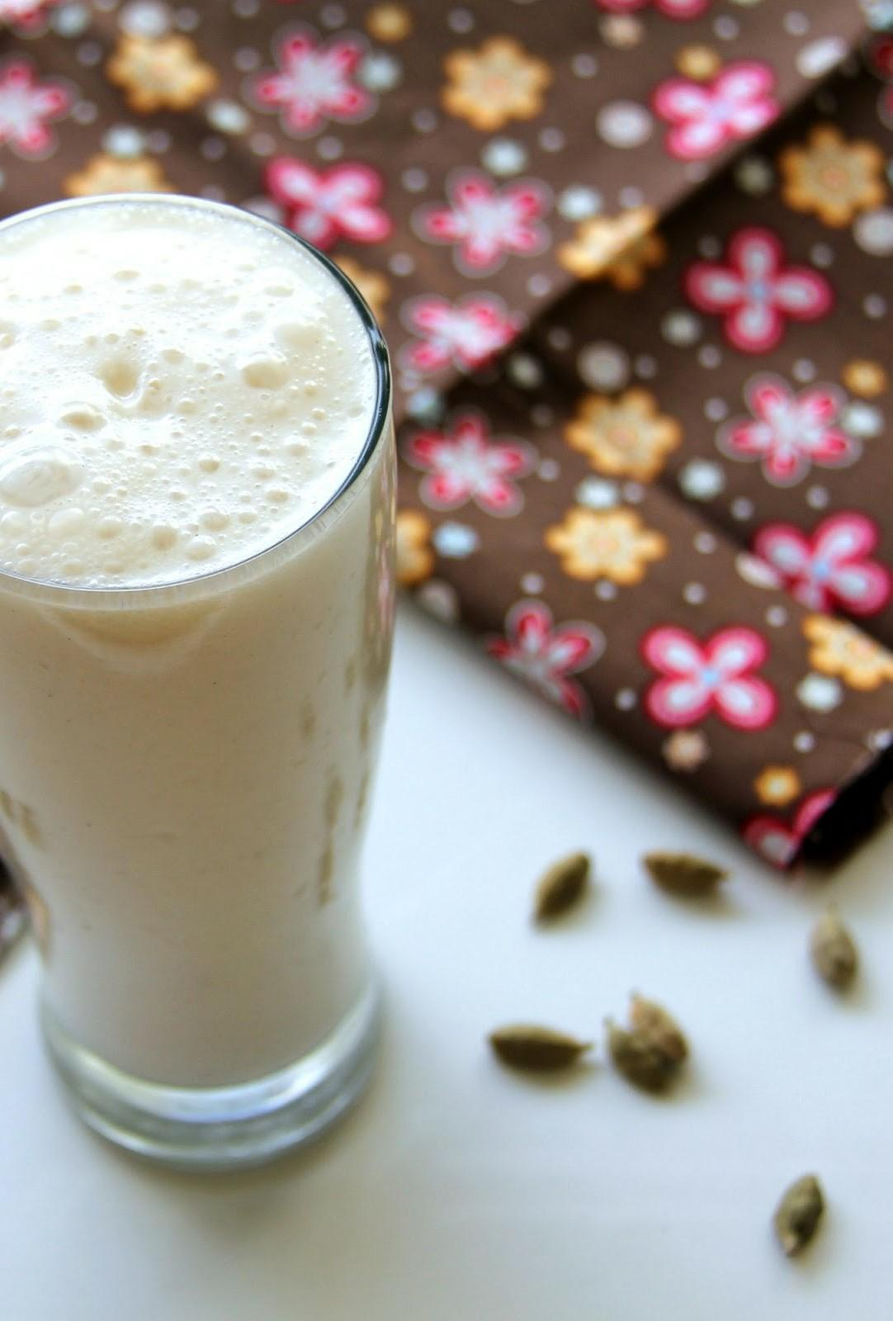Lassi: (0, 199, 395, 1093)
